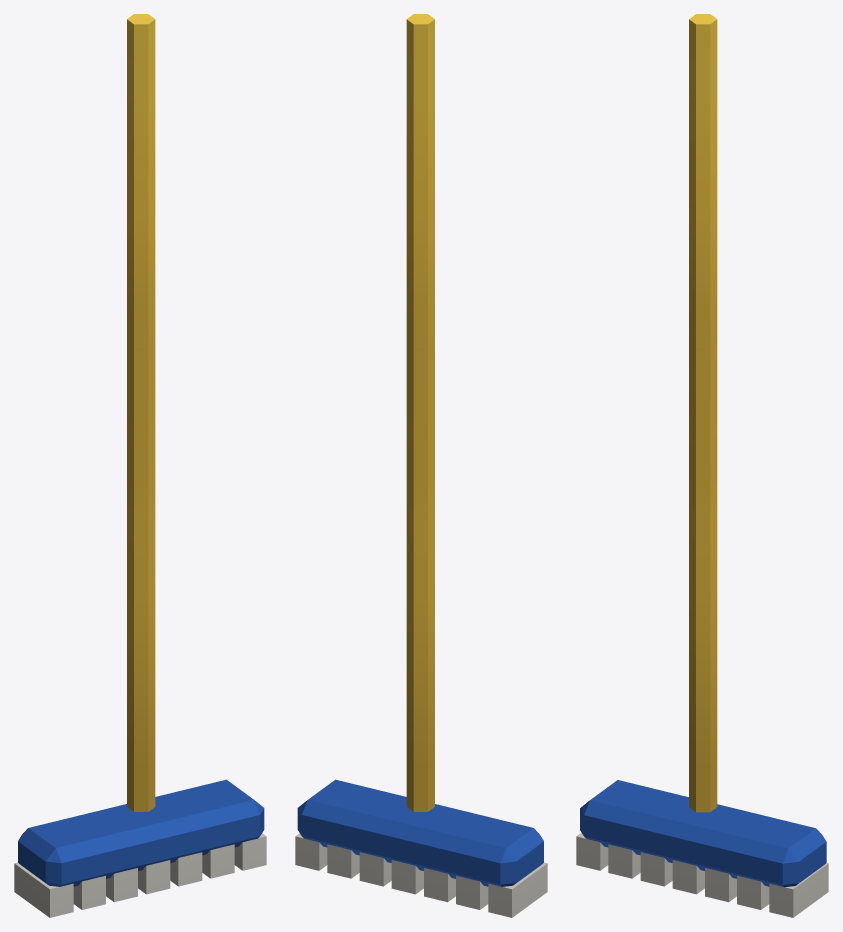
Rendered from Esfregao.glb.
The picture shows the model from 3 angles, left to right: view 1: azimuth 30°, elevation 25°; view 2: azimuth 150°, elevation 25°; view 3: azimuth 330°, elevation 25°; orthographic projection.
Visible parts, largest first — view 1: Esfregao_Malha; view 2: Esfregao_Malha; view 3: Esfregao_Malha.
Part boxes in pixels (x1,y1,x2,y2): Esfregao_Malha: (14, 14, 266, 917); Esfregao_Malha: (295, 14, 547, 917); Esfregao_Malha: (576, 14, 828, 917).
Size of the model in its own units: 0.32 by 1.2 by 0.1.
Materials: 1 (1 with a texture image).
